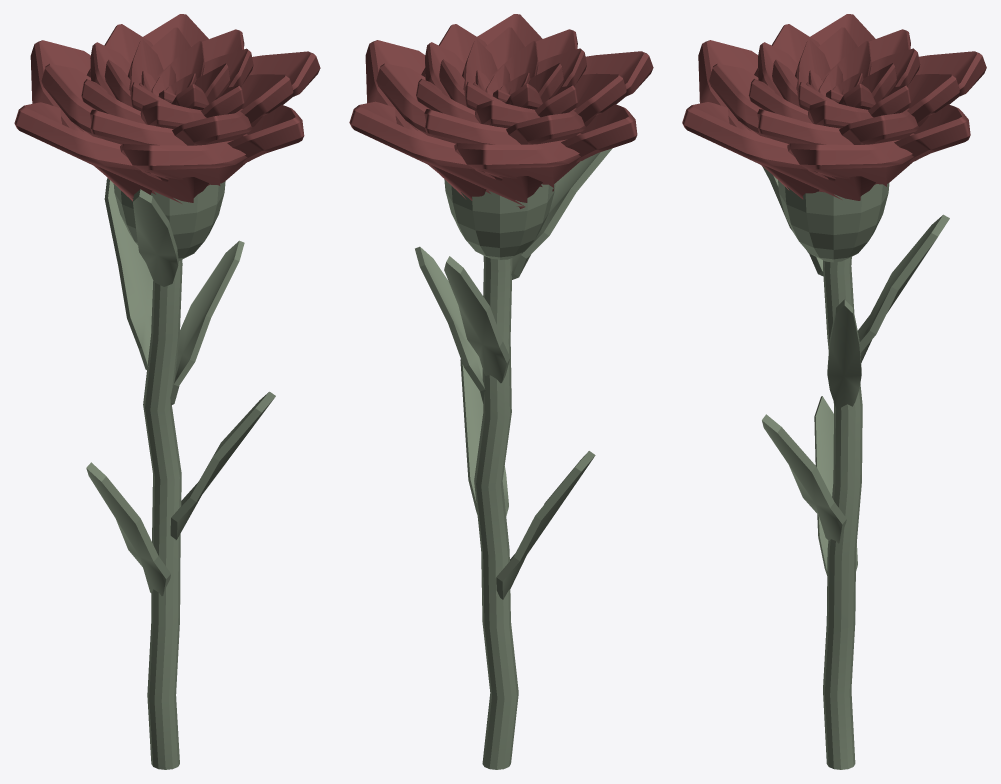
File: Flower2.fbx
3 renders of one model, left to right at view 1: azimuth 30°, elevation 25°; view 2: azimuth 150°, elevation 25°; view 3: azimuth 270°, elevation 25°, orthographic.
Parts seen in each view (by area): view 1: geomFlower2; view 2: geomFlower2; view 3: geomFlower2.
Boxes of the visible parts, left/top/right/bottom form: geomFlower2: left=14, top=14, right=320, bottom=769; geomFlower2: left=349, top=14, right=653, bottom=769; geomFlower2: left=682, top=14, right=986, bottom=769.
Size of the model in its own units: 1.3 by 3.04 by 1.2.
